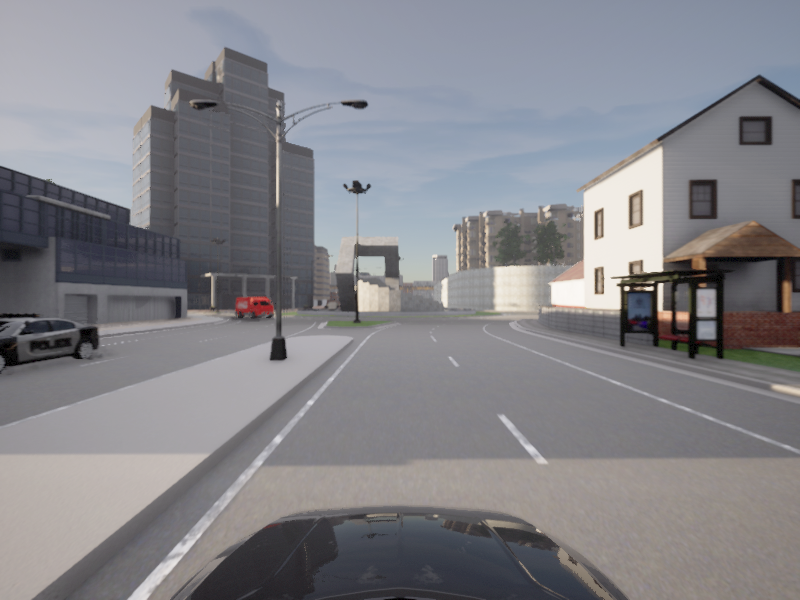vehicle: (0, 310, 109, 386), (233, 296, 278, 319)
